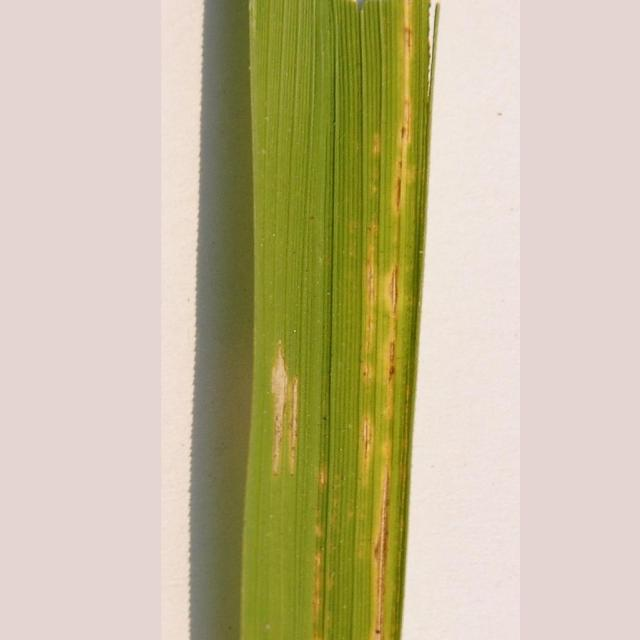leaf blight: (314, 3, 427, 640), (256, 335, 310, 485)
